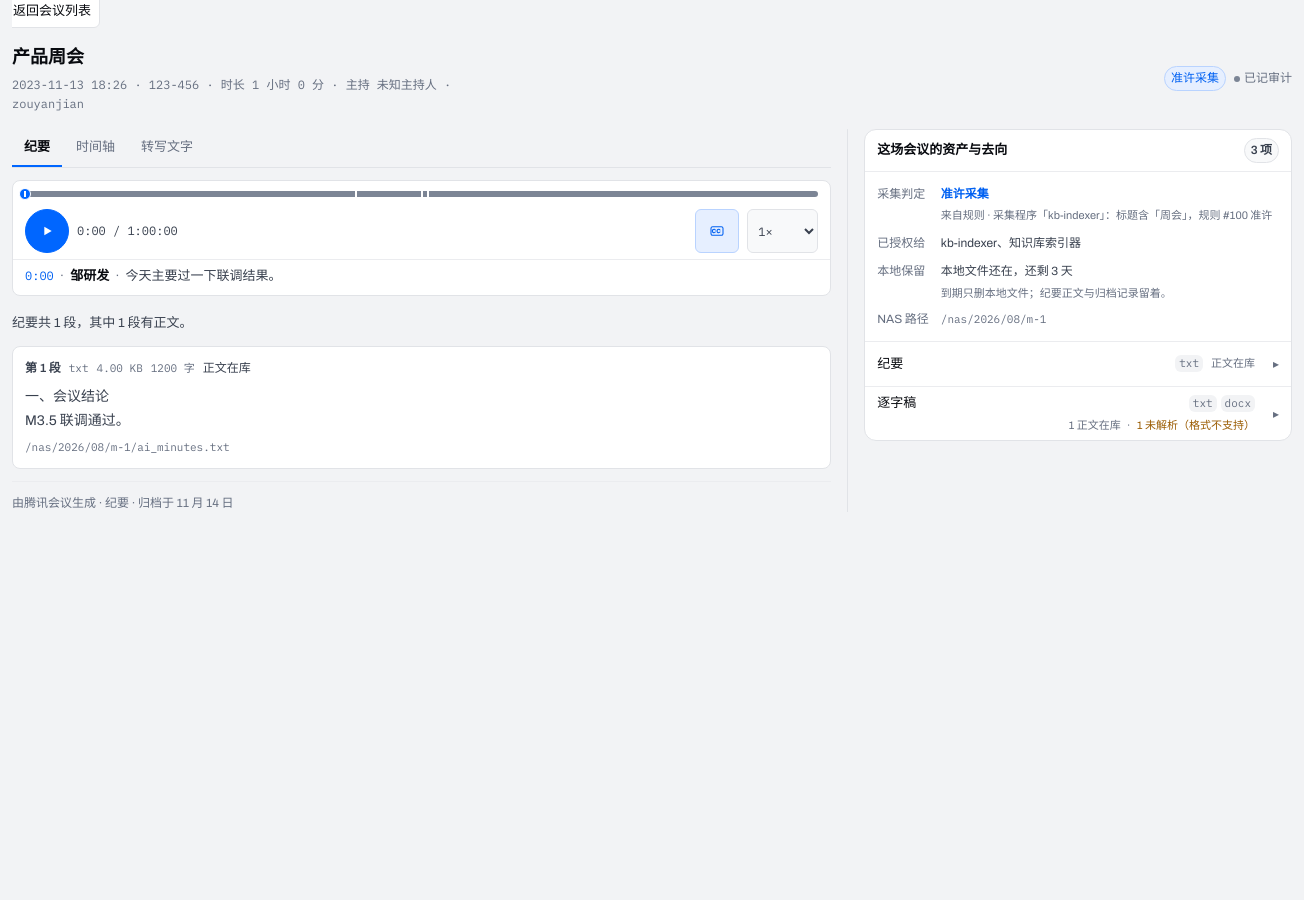
Scenario: 三处联动 › 没有可播录像时，走时推进 → 当前分段跟着换，字幕跟着换
The image size is (1304, 900).
Expected: the heading "产品周会" is shown, [12,47,84,67]
Click the tab "时间轴" at coordinates (96, 148), box [64,129,127,167]
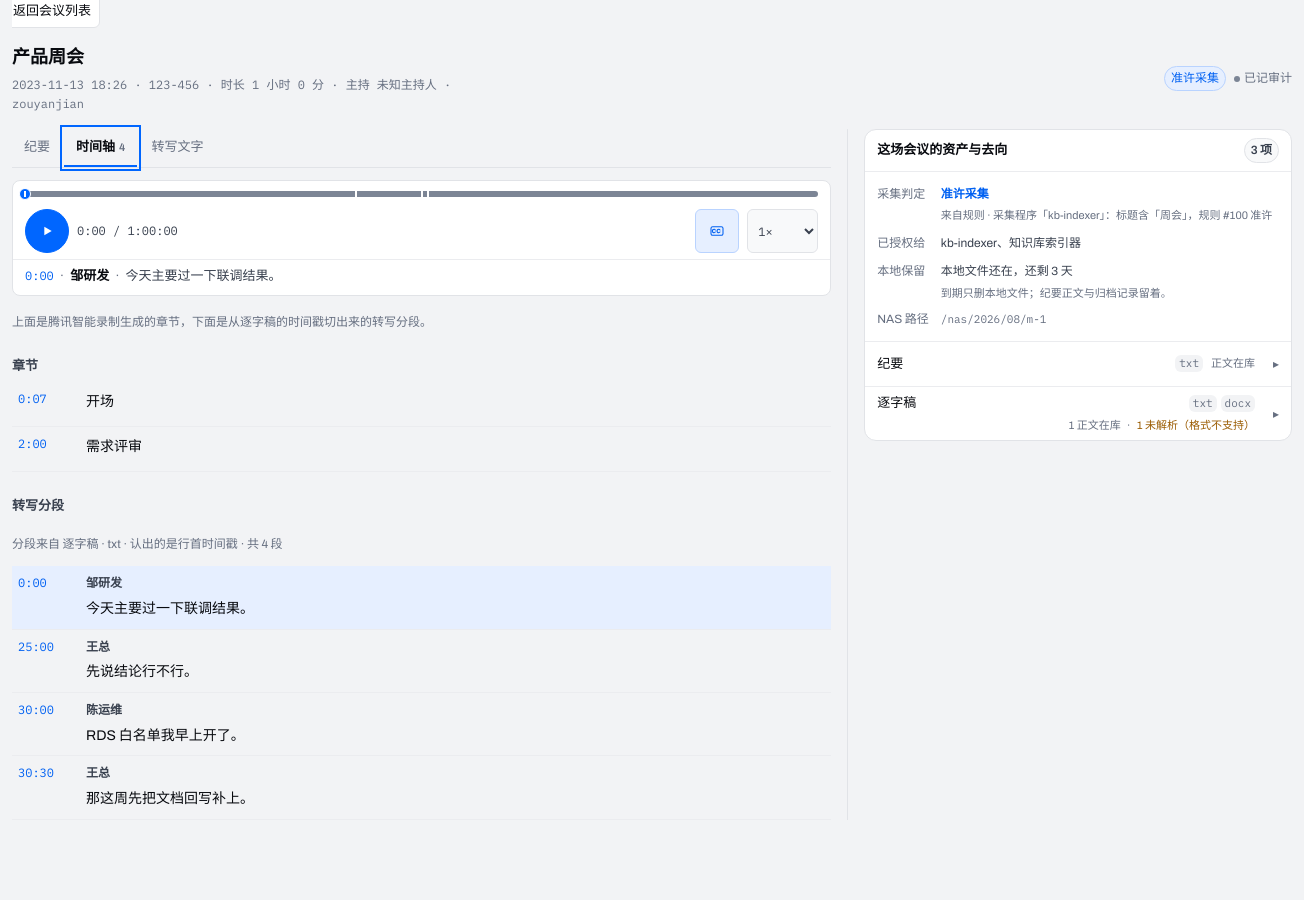
Click the button "30:00 陈运维 RDS 白名单我早上开了。" at coordinates (36, 709), box [12,693,831,756]
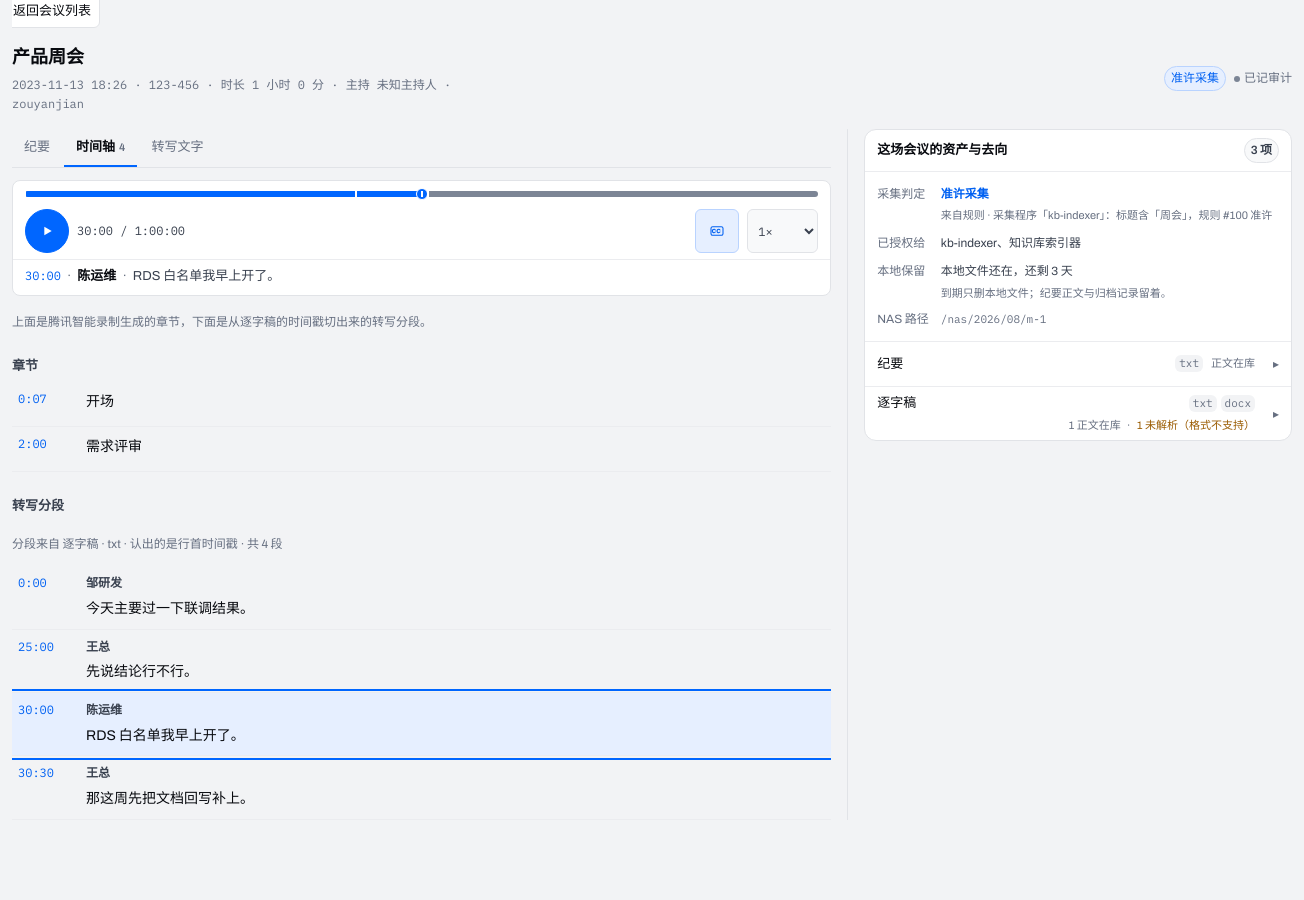
Click the button named "开始走时" at coordinates (47, 231), box [25,209,69,253]
Wait 31000 ms
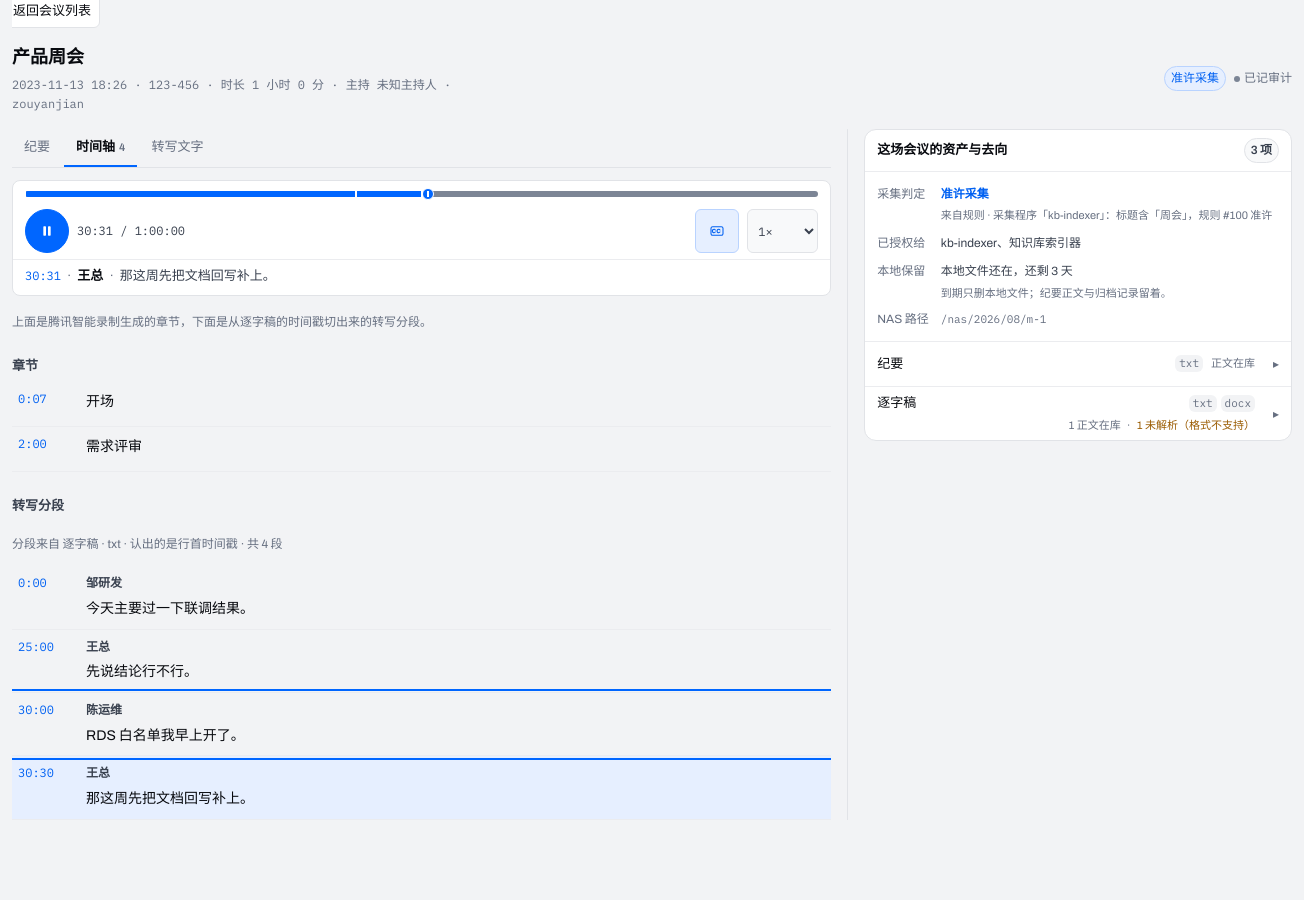
Now the text "那这周先把文档回写补上。" below "1:00:00" is shown, box [120,269,276,283]
